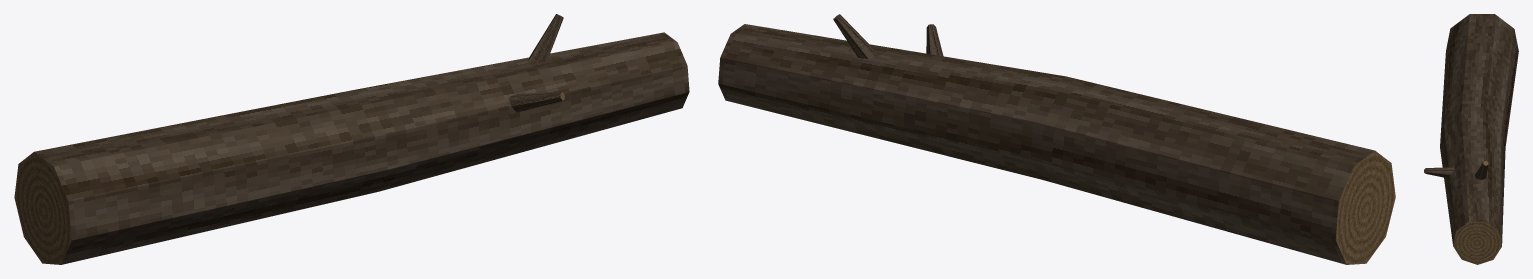
The model's file is env_trees_08_fallen_long.glb.
3 views of the same model, side by side, from view 1: azimuth 30°, elevation 25°; view 2: azimuth 150°, elevation 25°; view 3: azimuth 270°, elevation 25° (orthographic). The views are drawn at different scales.
Parts seen in each view (by area): view 1: solid; view 2: solid; view 3: solid.
Part boxes in pixels (x1=…): solid: x1=14, y1=14, x2=689, y2=264; solid: x1=718, y1=14, x2=1395, y2=264; solid: x1=1424, y1=14, x2=1518, y2=264.
Bounding box in the file's own units: 2.81 × 0.5207 × 0.5887.
Materials: 1 (1 with a texture image).
